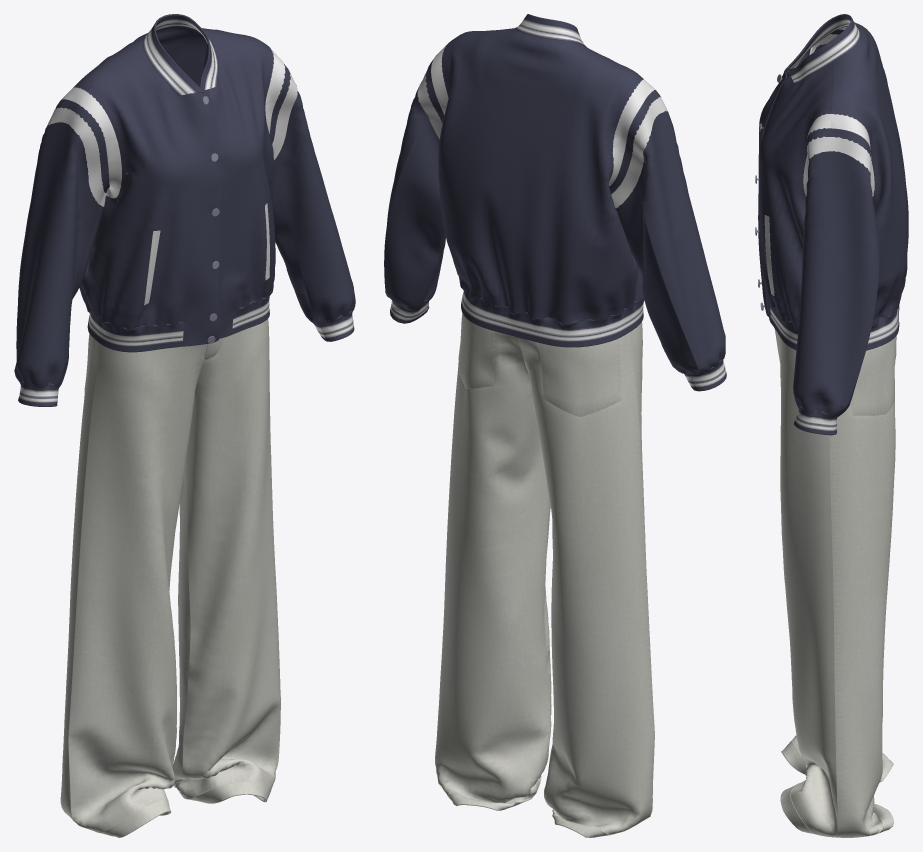
File: navy_blue_casual_suit_with_white_jeans.glb
3 renders of one model, left to right at view 1: azimuth 30°, elevation 25°; view 2: azimuth 150°, elevation 25°; view 3: azimuth 270°, elevation 25°, orthographic.
Visible parts, largest first — view 1: Object_6, Object_7, Object_11, Object_9, Object_12, Object_10, Object_8, Object_15, Object_14, Object_13, Object_5; view 2: Object_15, Object_8, Object_14, Object_9, Object_13, Object_6, Object_10, Object_5, Object_4; view 3: Object_15, Object_7, Object_10, Object_8, Object_12, Object_9, Object_13, Object_4, Object_11.
Boxes of the visible parts, bbox=[...] form: Object_6: bbox=[54, 99, 206, 831]; Object_7: bbox=[95, 318, 280, 837]; Object_11: bbox=[87, 55, 223, 346]; Object_9: bbox=[14, 64, 354, 386]; Object_12: bbox=[208, 39, 275, 338]; Object_10: bbox=[272, 70, 355, 323]; Object_8: bbox=[18, 14, 270, 406]; Object_15: bbox=[84, 291, 280, 798]; Object_14: bbox=[60, 337, 175, 820]; Object_13: bbox=[61, 48, 285, 198]; Object_5: bbox=[46, 44, 221, 360]; Object_15: bbox=[435, 286, 644, 803]; Object_8: bbox=[438, 14, 726, 391]; Object_14: bbox=[517, 331, 654, 834]; Object_9: bbox=[384, 59, 725, 374]; Object_13: bbox=[431, 44, 655, 185]; Object_6: bbox=[609, 90, 660, 817]; Object_10: bbox=[384, 71, 442, 298]; Object_5: bbox=[611, 97, 667, 208]; Object_4: bbox=[447, 784, 613, 837]; Object_15: bbox=[769, 302, 899, 837]; Object_7: bbox=[774, 328, 837, 837]; Object_10: bbox=[793, 136, 879, 416]; Object_8: bbox=[784, 14, 908, 326]; Object_12: bbox=[759, 62, 833, 327]; Object_9: bbox=[794, 44, 878, 435]; Object_13: bbox=[803, 27, 874, 196]; Object_4: bbox=[764, 215, 893, 837]; Object_11: bbox=[758, 49, 810, 316].
Size of the model in its own units: 681 by 1552 by 278.
4 materials, 1 textured.
